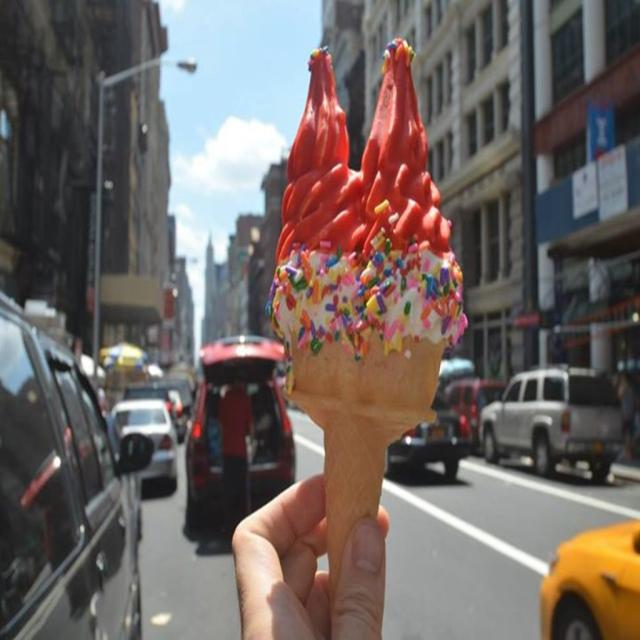car: (474, 363, 625, 491)
